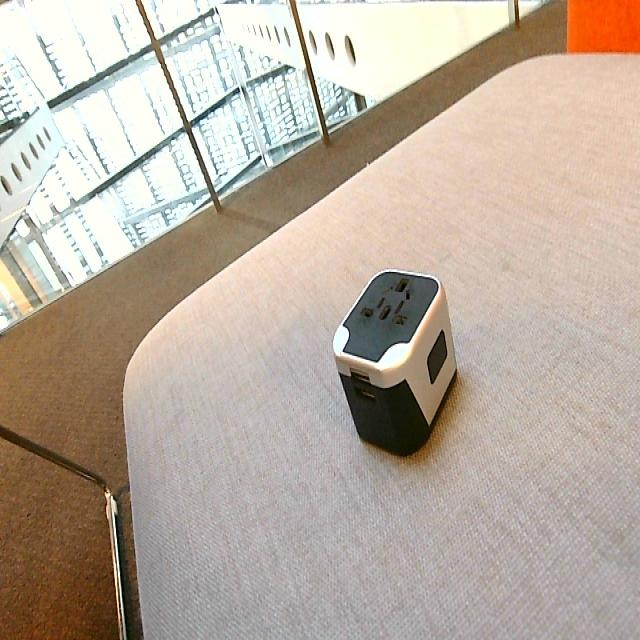adapter: (331, 267, 458, 456)
